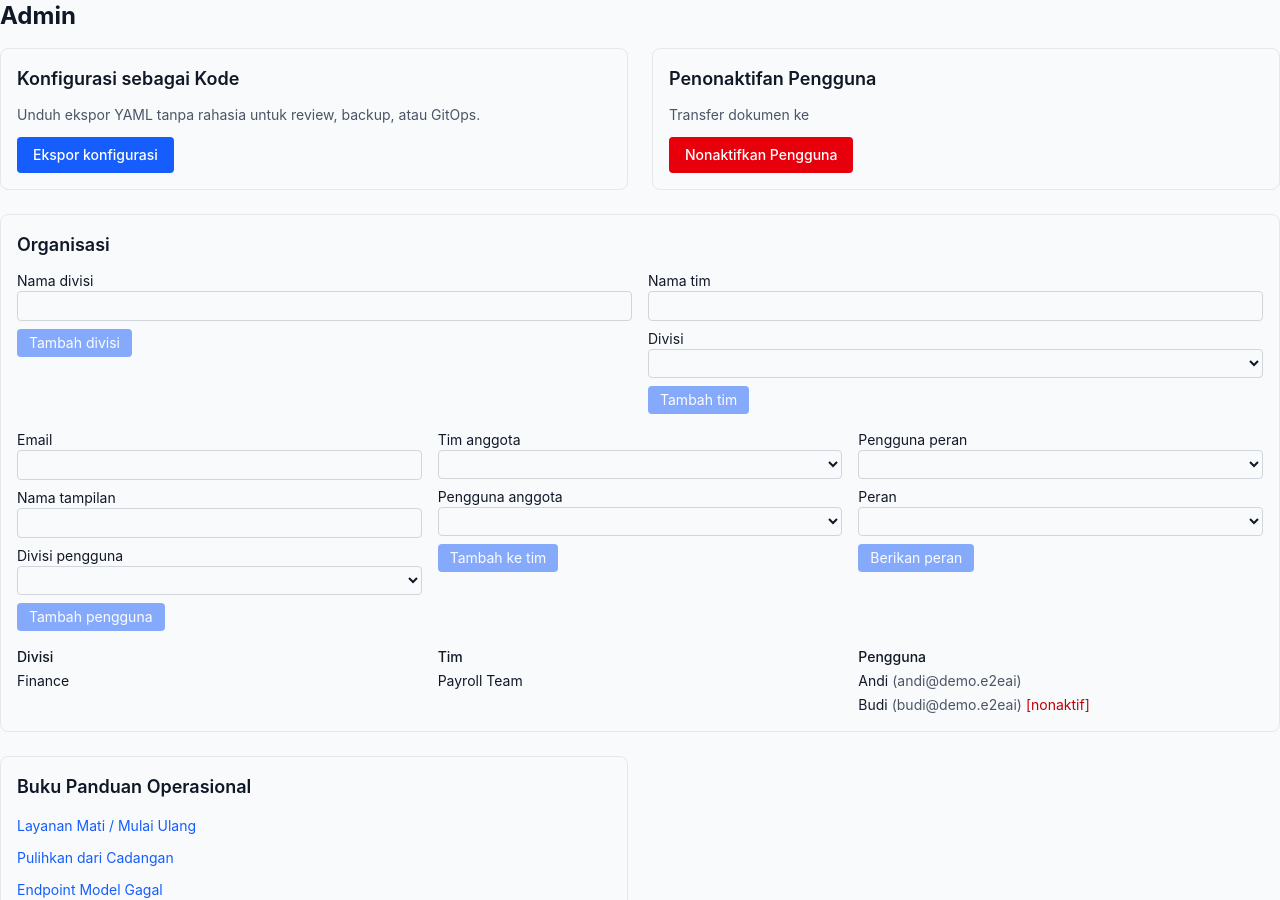
Test case: AdminScreen › labels the deactivation form in Indonesian
Click the button "Nonaktifkan Pengguna" at (761, 155), box top-left (669, 137), bottom-right (854, 173)
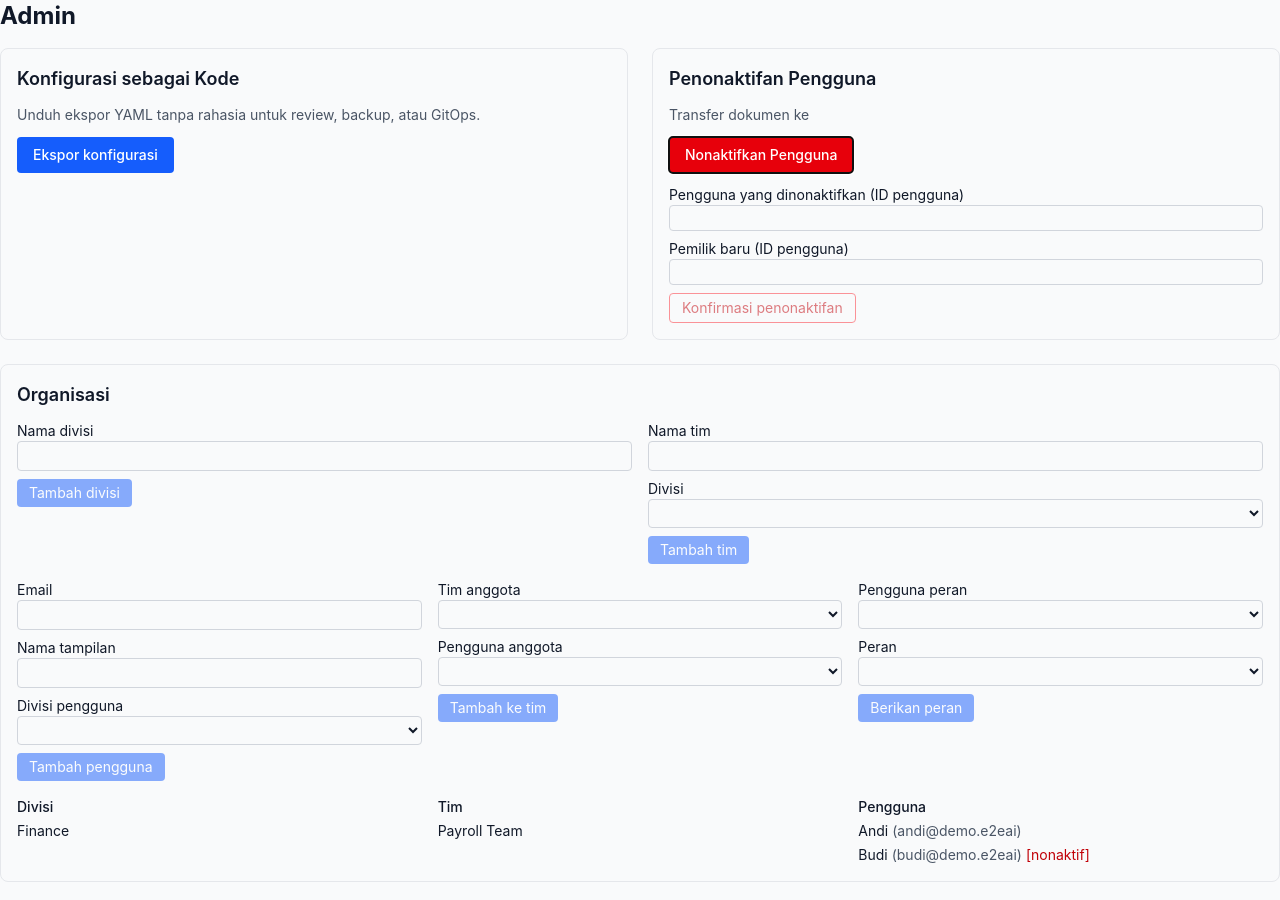
Check: the field labelled "Pengguna yang dinonaktifkan (ID pengguna)" is shown, box top-left (669, 205), bottom-right (1263, 231)
Check: the field labelled "Pemilik baru (ID pengguna)" is shown, box top-left (669, 259), bottom-right (1263, 285)
Check: the button "Konfirmasi penonaktifan" is shown, box top-left (669, 293), bottom-right (856, 323)
